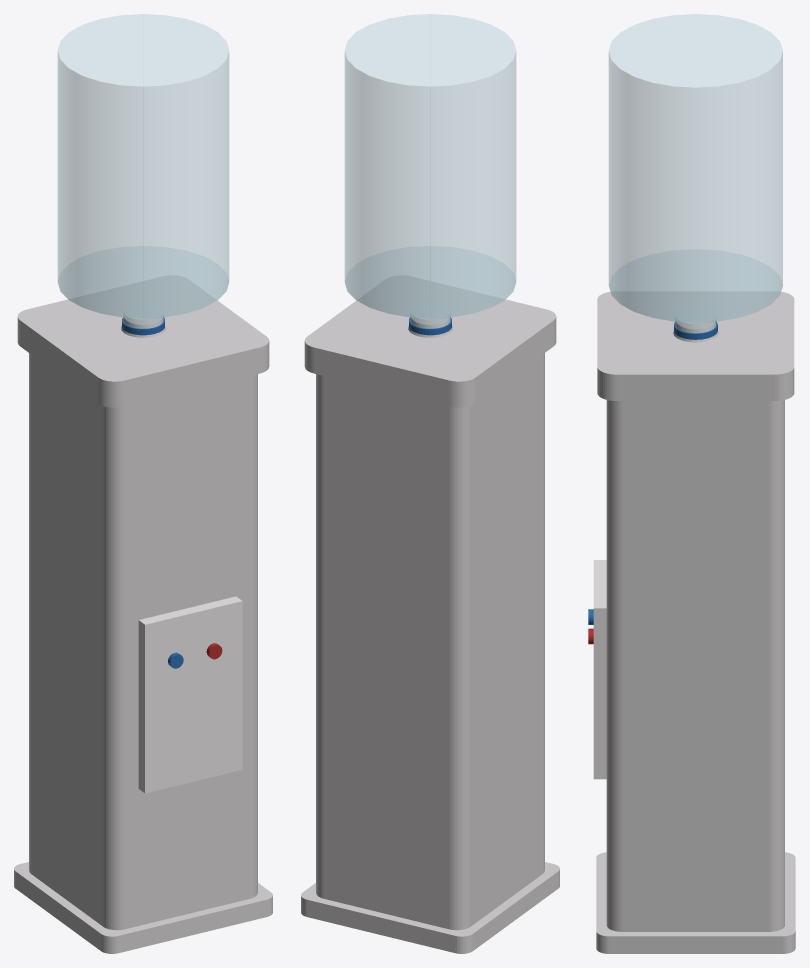
Rendered from water-fountain-412.glb.
The picture shows the model from 3 angles, left to right: view 1: azimuth 30°, elevation 25°; view 2: azimuth 150°, elevation 25°; view 3: azimuth 270°, elevation 25°; orthographic projection.
Parts seen in each view (by area): view 1: body, bottle_body, top_cap, control_panel, bottle_shoulder, base_plinth, top_knob; view 2: body, bottle_body, top_cap, bottle_shoulder, base_plinth, top_knob; view 3: body, bottle_body, top_cap, bottle_shoulder, base_plinth, control_panel, top_knob.
Part boxes in pixels (x1,y1,x2,y2): body: (29, 353, 257, 930); bottle_body: (58, 14, 228, 318); top_cap: (17, 275, 269, 407); control_panel: (138, 596, 242, 793); bottle_shoulder: (58, 246, 228, 319); base_plinth: (14, 862, 272, 953); top_knob: (121, 309, 165, 337); body: (316, 353, 544, 930); bottle_body: (345, 14, 515, 318); top_cap: (304, 275, 556, 407); bottle_shoulder: (345, 246, 515, 319); base_plinth: (301, 862, 559, 953); top_knob: (408, 309, 452, 337); body: (606, 400, 784, 931); bottle_body: (609, 14, 782, 322); top_cap: (597, 291, 794, 400); bottle_shoulder: (609, 249, 782, 323); base_plinth: (596, 852, 795, 953); control_panel: (593, 560, 606, 779); top_knob: (673, 313, 718, 342).
Size of the model in its own units: 0.3072 by 1.47 by 0.3192.
